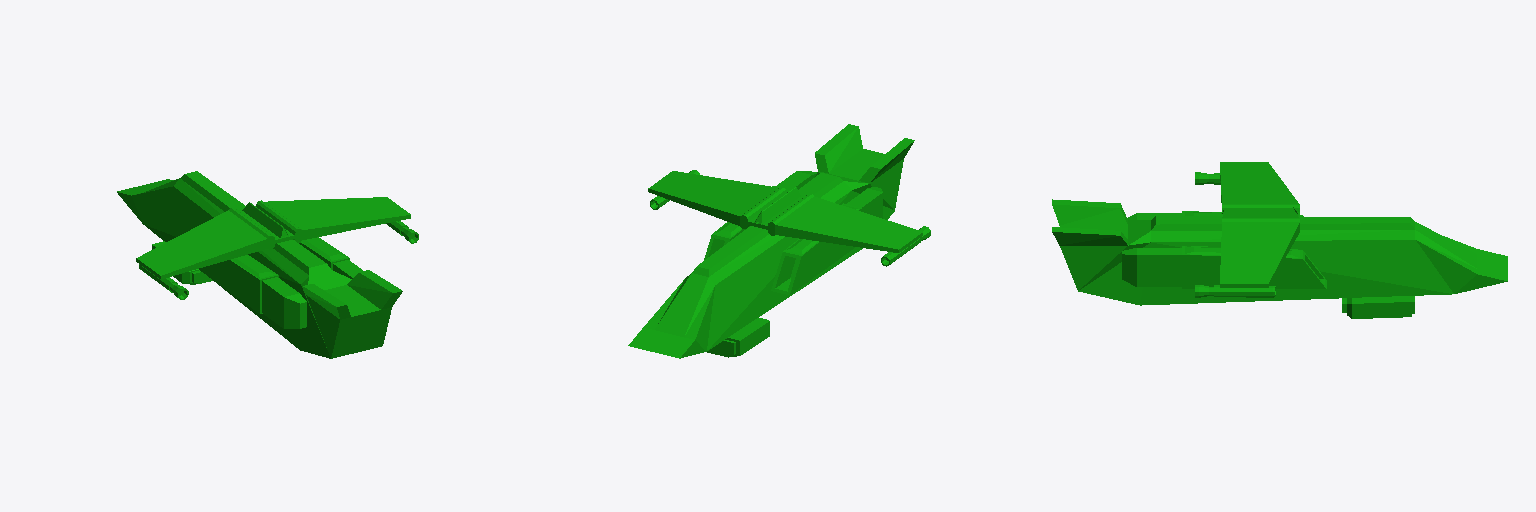
The model's file is artillery.obj.
3 renders of one model, left to right at view 1: azimuth 30°, elevation 25°; view 2: azimuth 150°, elevation 25°; view 3: azimuth 270°, elevation 25°, orthographic.
Parts seen in each view (by area): view 1: Box001; view 2: Box001; view 3: Box001.
Boxes of the visible parts, box(x1,y1,x2,y2) form: Box001: box(117, 171, 418, 358); Box001: box(628, 124, 930, 358); Box001: box(1052, 162, 1507, 318).
Bounding box in the file's own units: 1227 × 458 × 1933.